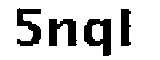5: (13, 6, 45, 51)
I: (116, 3, 139, 52)
n: (47, 15, 81, 54)
q: (85, 16, 117, 60)
